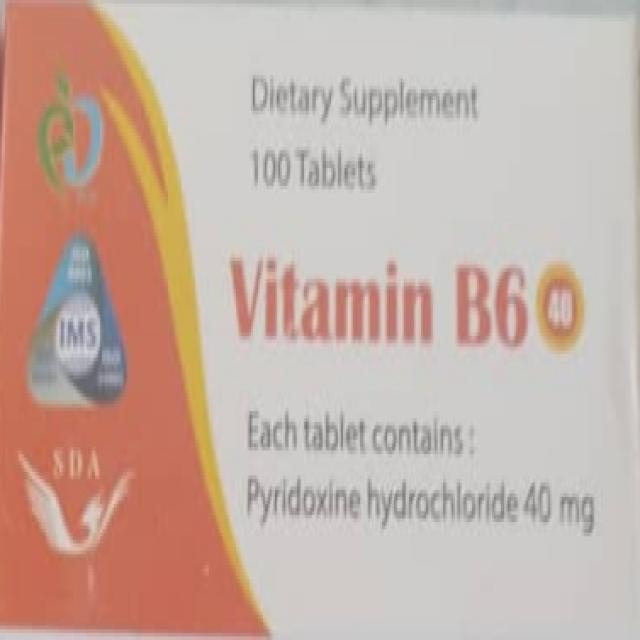drug-name: (230, 240, 532, 361)
